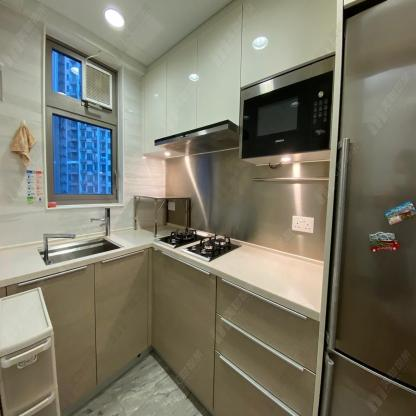Cupboard: (212, 276, 320, 416), (93, 248, 152, 395)
Exhaust Fan: (81, 59, 113, 113)
Exhaust Hood: (154, 120, 239, 156)
Faucet: (42, 230, 76, 260), (89, 203, 113, 235)
Microwave: (239, 54, 334, 161)
Sink: (37, 236, 124, 268)
Stove: (146, 227, 255, 269)
